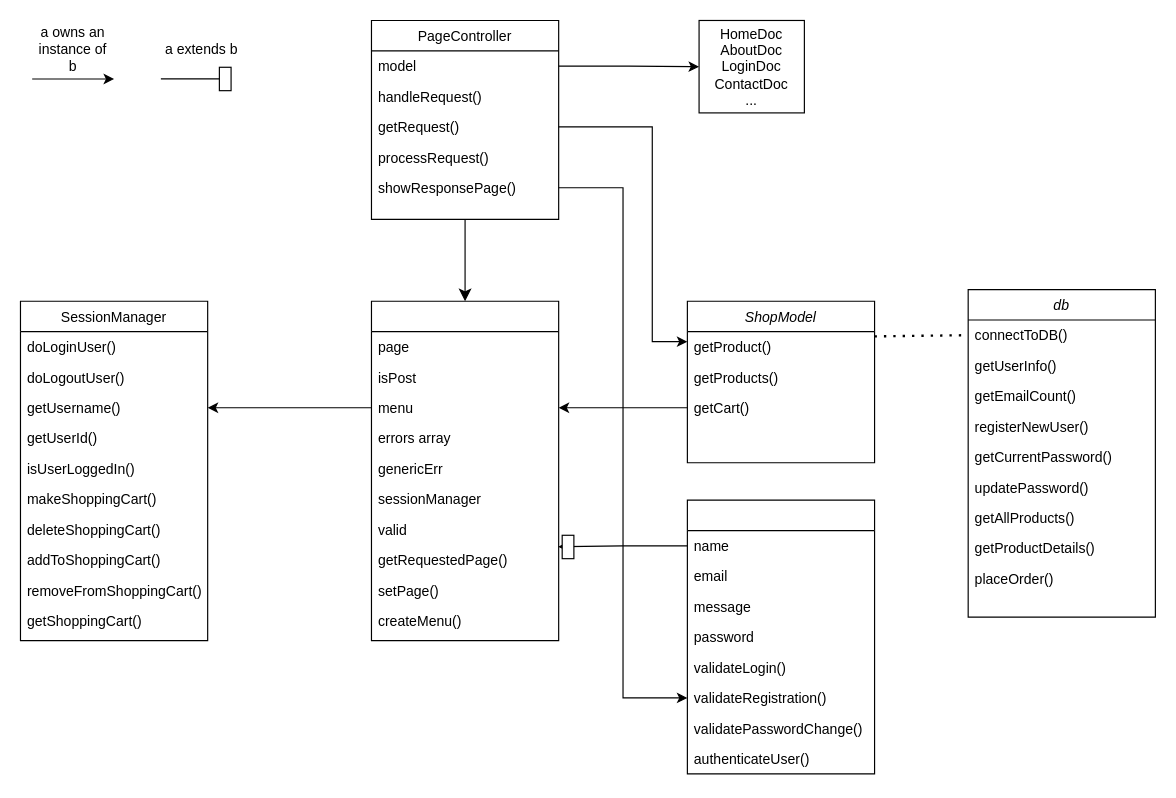
Image size: 1176x798. Some labels were removed from this diagram. The box of each missing label's shape, as (x1, y1, x2, y2) in pixels:
PageModel: (370, 300, 559, 641)
UserModel: (686, 499, 875, 774)
